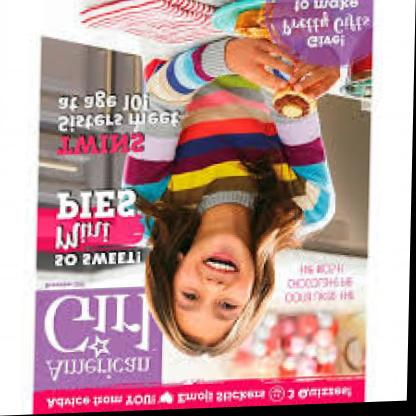Paper: (35, 0, 398, 413)
